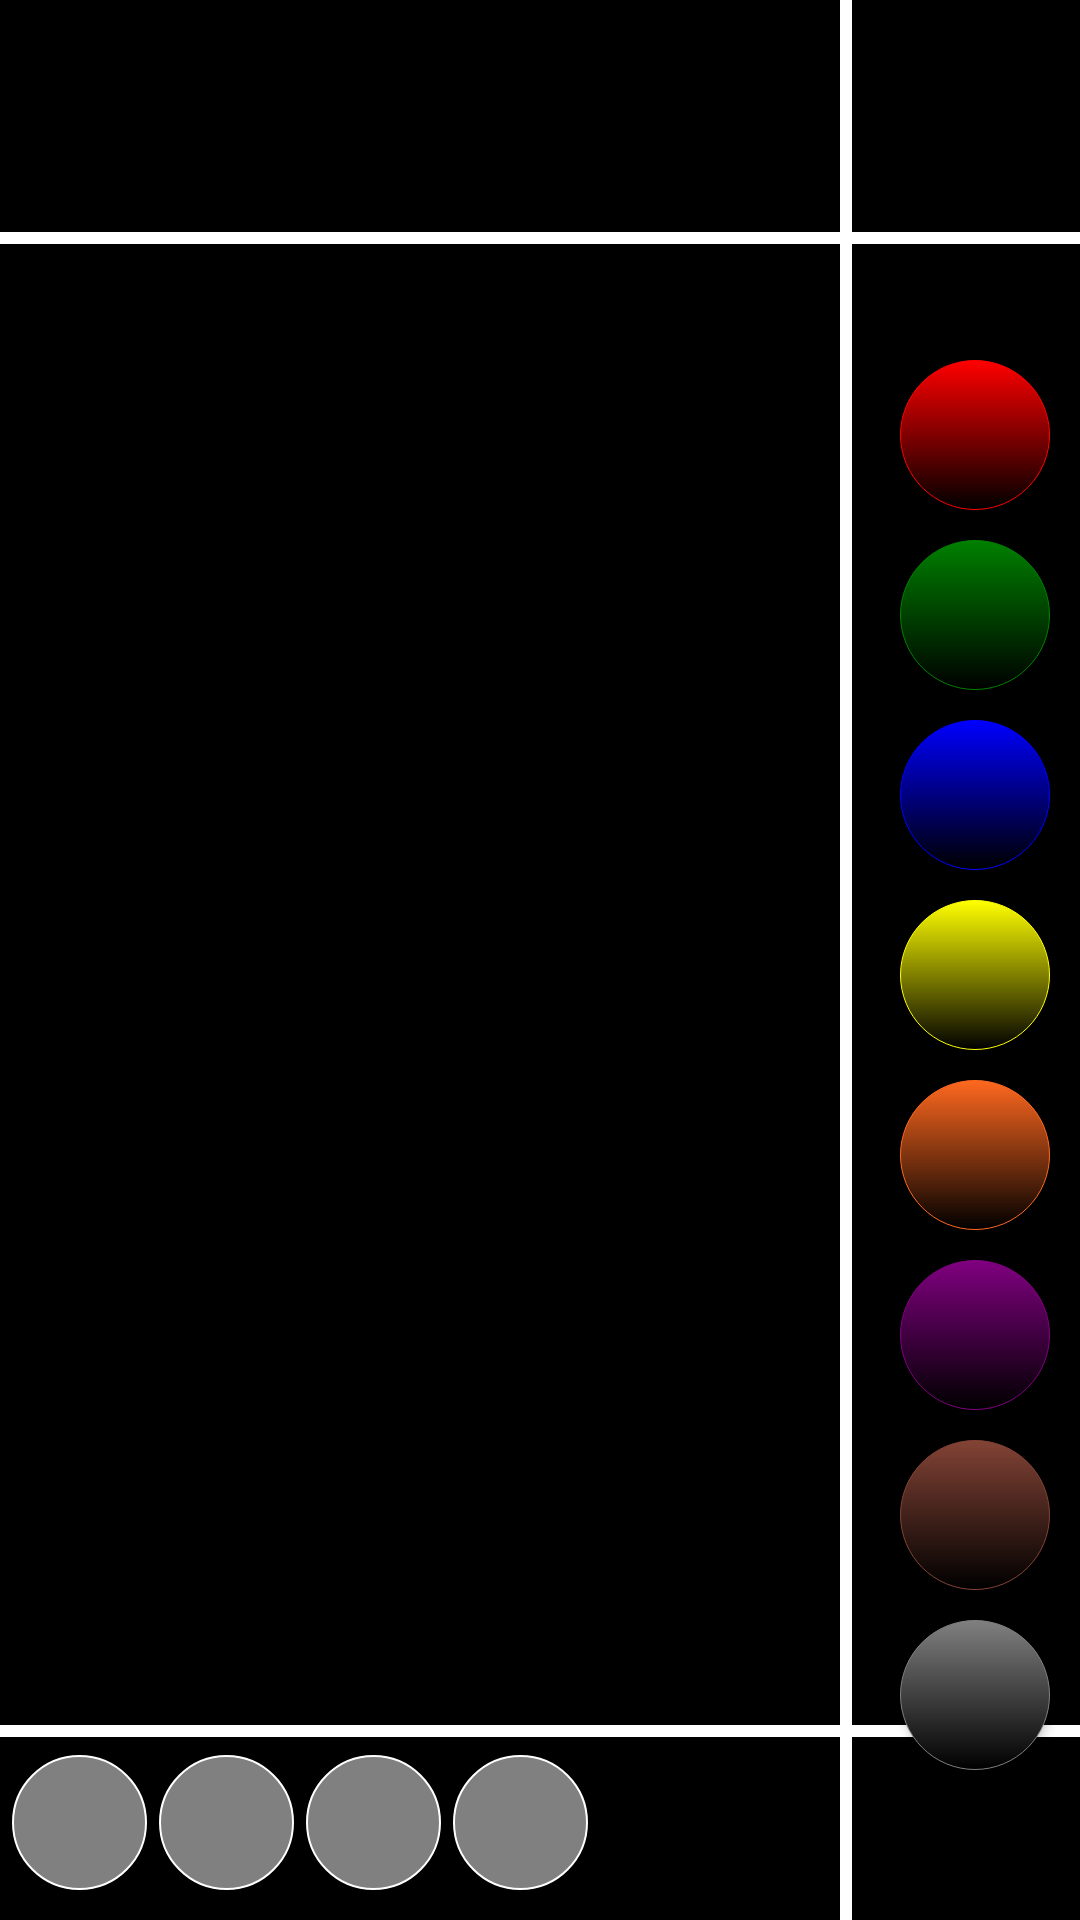

Icon click points for this 1080 × 1920 phone screenshot, format point (x, y):
chip: point (975, 435), point (975, 615), point (975, 795), point (975, 975), point (975, 1155), point (975, 1335), point (975, 1695)
chip brown: point (975, 1515)
chip empty: point (79, 1822), point (226, 1822), point (373, 1822), point (520, 1822)
